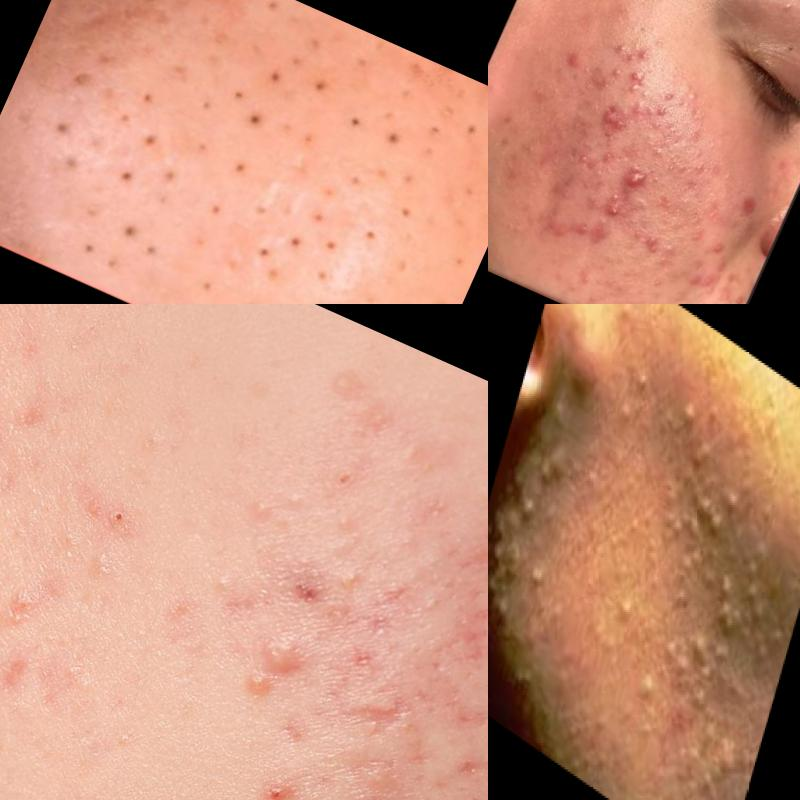acne_scars: (327, 675, 425, 761)
blackhead: (361, 76, 489, 195), (222, 218, 342, 305), (269, 188, 362, 281), (102, 79, 184, 159), (371, 159, 443, 231), (104, 209, 178, 271), (328, 91, 385, 149), (98, 150, 156, 204), (177, 254, 234, 305), (248, 50, 300, 102), (296, 62, 347, 109), (233, 99, 280, 143), (219, 145, 263, 187), (195, 192, 237, 231), (155, 158, 192, 196)
papular: (581, 208, 623, 250), (731, 189, 765, 222), (638, 227, 671, 260), (694, 269, 722, 300), (592, 68, 621, 95), (557, 47, 586, 73), (680, 266, 706, 291), (571, 146, 597, 170), (707, 236, 731, 259), (572, 218, 594, 240), (599, 146, 619, 166), (728, 290, 751, 305)
purulent: (225, 656, 307, 729), (623, 65, 656, 102), (601, 197, 632, 228), (604, 185, 628, 207), (652, 101, 674, 123), (659, 86, 682, 107), (636, 44, 656, 63), (624, 50, 642, 68), (613, 41, 630, 58), (608, 65, 625, 82)
sebo-crystan-conglo: (587, 96, 634, 137), (615, 159, 658, 196)
whitehead: (651, 603, 731, 719), (228, 463, 317, 550), (701, 557, 774, 660), (668, 372, 734, 479), (685, 706, 747, 800), (189, 547, 251, 637), (684, 467, 748, 554), (656, 525, 713, 617), (96, 705, 153, 772), (532, 436, 580, 508), (405, 577, 452, 629), (496, 525, 534, 588), (628, 661, 666, 722), (609, 382, 646, 441), (611, 582, 647, 639), (648, 229, 685, 277), (627, 353, 660, 406), (512, 482, 545, 532), (523, 553, 555, 603), (489, 585, 519, 635), (645, 138, 673, 165), (774, 1, 800, 29), (626, 98, 653, 124), (672, 157, 695, 180), (662, 155, 681, 177), (578, 268, 598, 287), (602, 252, 618, 268), (651, 275, 667, 291), (673, 298, 693, 305), (648, 300, 674, 305)
